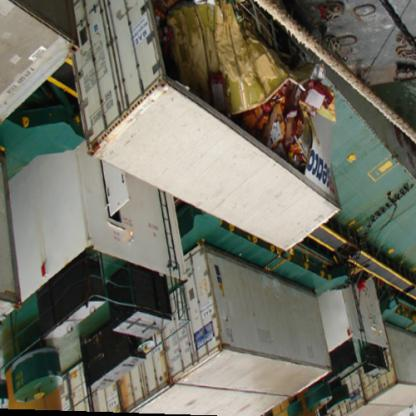Damage: (127, 1, 357, 198)
